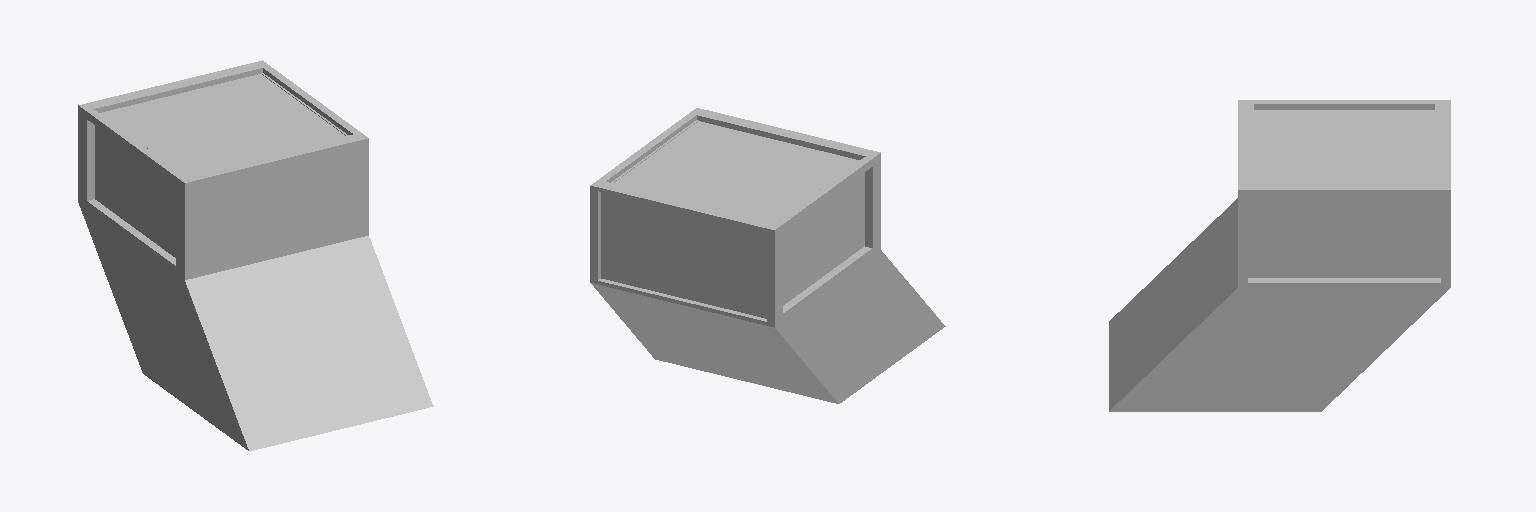
File: Prop_JoyStickBox.obj
The picture shows the model from 3 angles: view 1: azimuth 30°, elevation 25°; view 2: azimuth 150°, elevation 25°; view 3: azimuth 270°, elevation 25°; orthographic projection.
Parts seen in each view (by area): view 1: Prop_JoyStickBox; view 2: Prop_JoyStickBox; view 3: Prop_JoyStickBox.
Boxes of the visible parts, box(x1,y1,x2,y2) form: Prop_JoyStickBox: box(78, 60, 433, 451); Prop_JoyStickBox: box(590, 108, 945, 403); Prop_JoyStickBox: box(1109, 100, 1450, 411).
Bounding box in the file's own units: 1 × 1.15 × 1.61.